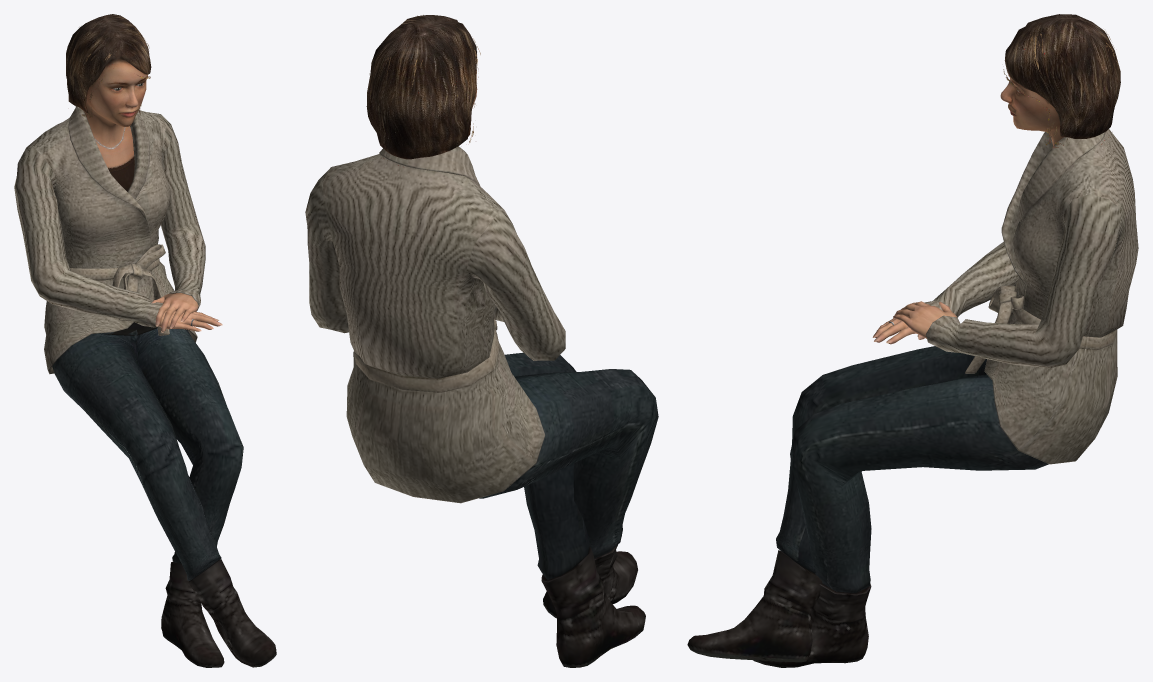
File: Female_Adult_14.glb
The picture shows the model from 3 angles, left to right: view 1: azimuth 30°, elevation 25°; view 2: azimuth 150°, elevation 25°; view 3: azimuth 270°, elevation 25°; orthographic projection. The views are drawn at different scales.
Visible parts, largest first — view 1: Female_Adult_14; view 2: Female_Adult_14; view 3: Female_Adult_14.
Boxes of the visible parts, x1,y1,x2,y2 form: Female_Adult_14: [14, 14, 276, 667]; Female_Adult_14: [305, 15, 658, 667]; Female_Adult_14: [687, 14, 1138, 667].
Bounding box in the file's own units: 0.4806 × 1.43 × 0.8895.
3 materials, 3 textured.
